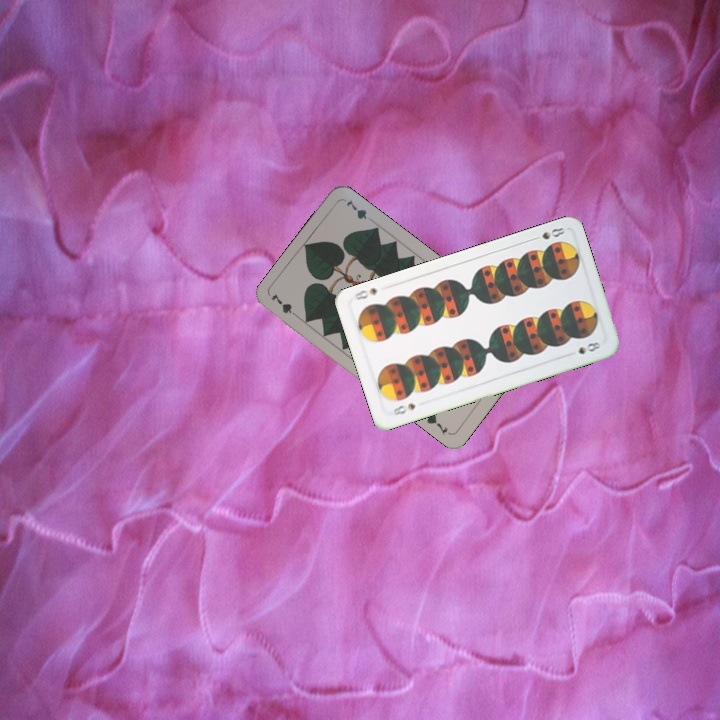G7: (267, 289, 303, 322)
S8: (527, 223, 567, 243), (389, 399, 418, 418)
